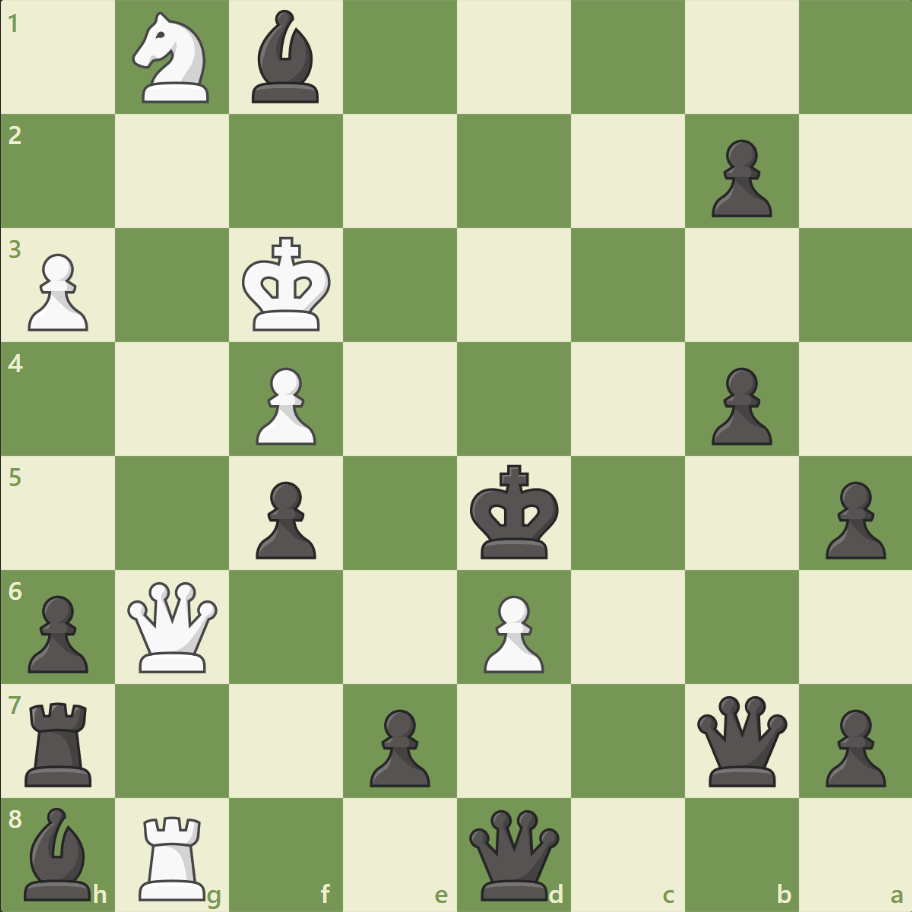K: (238, 231, 338, 339)
N: (124, 7, 222, 110)
P: (474, 586, 549, 677), (247, 359, 322, 450), (20, 246, 95, 337)
Q: (124, 576, 223, 676)
R: (133, 806, 215, 904)
b: (17, 801, 101, 904), (244, 6, 328, 109)
k: (465, 458, 565, 566)
p: (20, 586, 95, 677), (247, 473, 322, 564), (701, 359, 776, 450), (701, 132, 776, 223), (815, 700, 889, 791), (361, 700, 435, 791), (815, 473, 889, 564)
q: (464, 804, 563, 903), (691, 690, 790, 789)
r: (19, 693, 102, 790)
